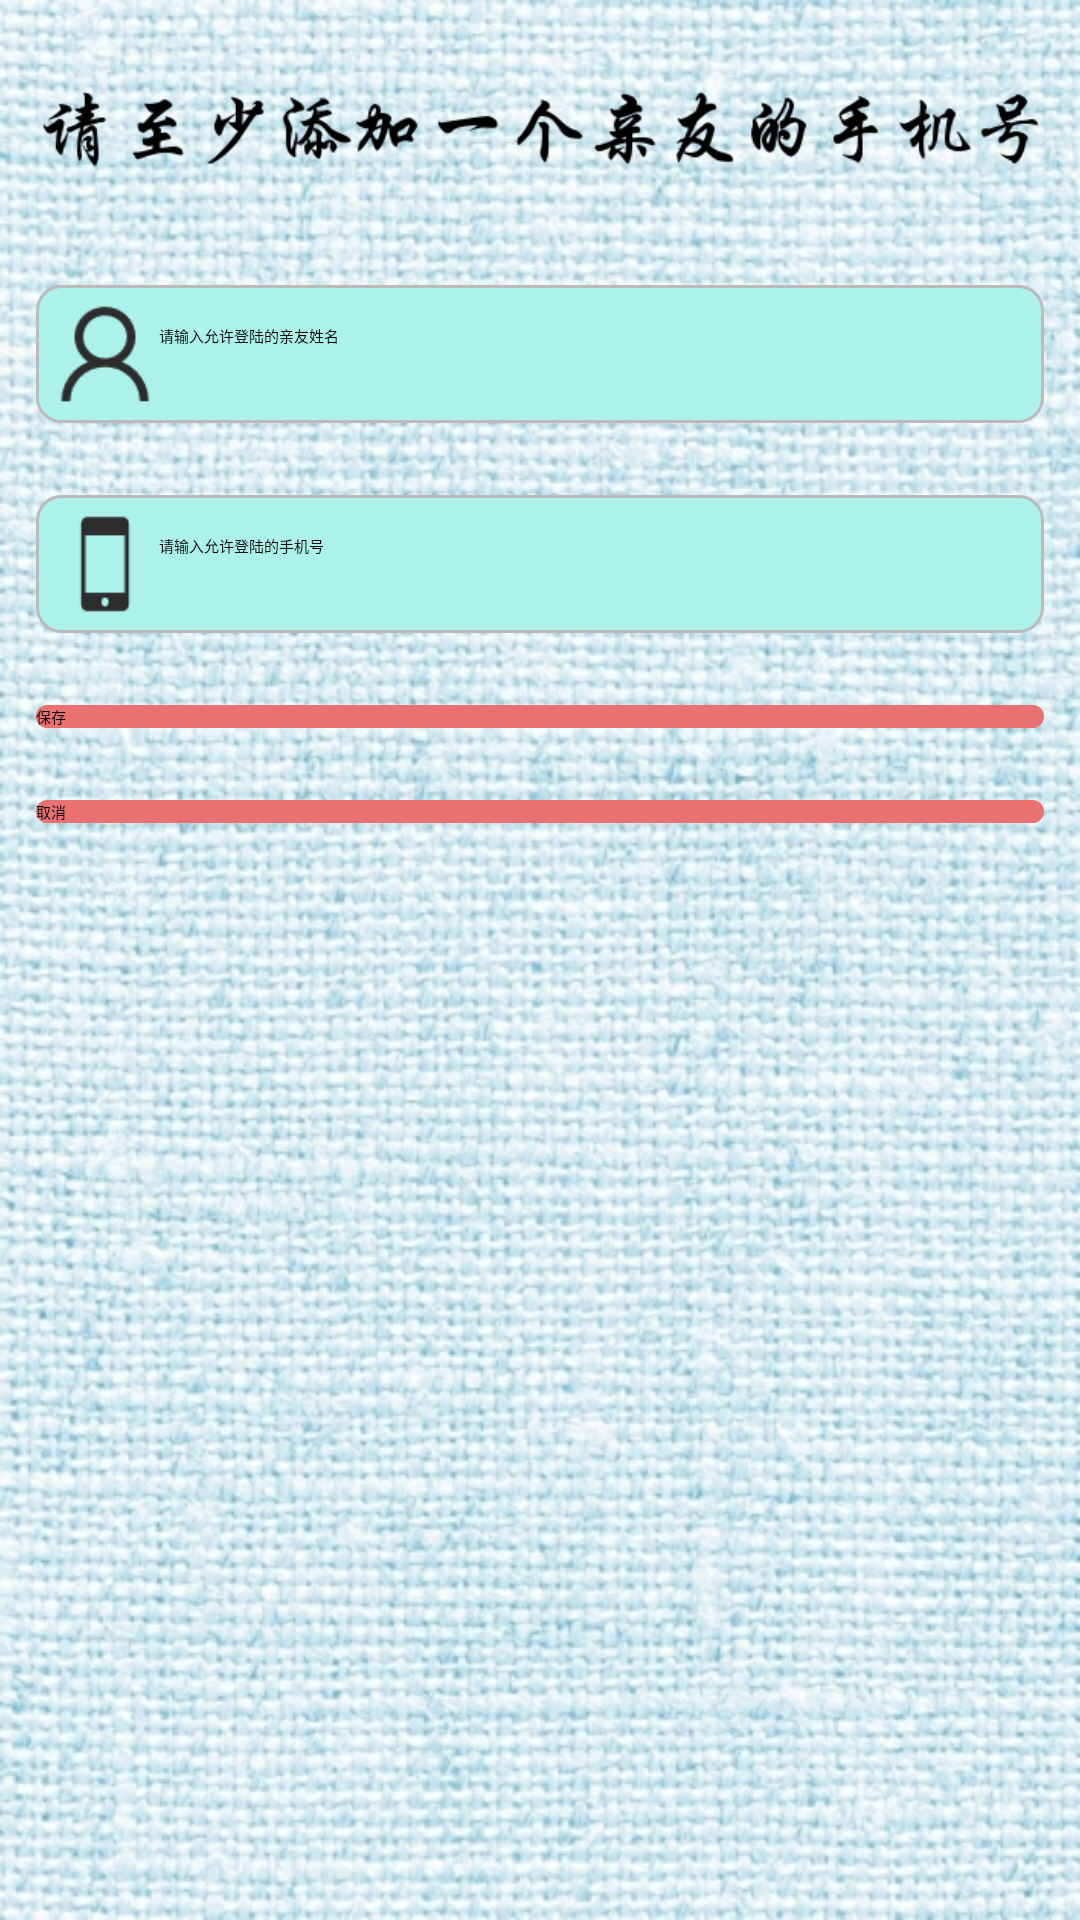

Where icons sit on this 1080*1920 app screen, as (x1, y1, x2, y2):
phoneparent: (80, 516, 130, 612)
